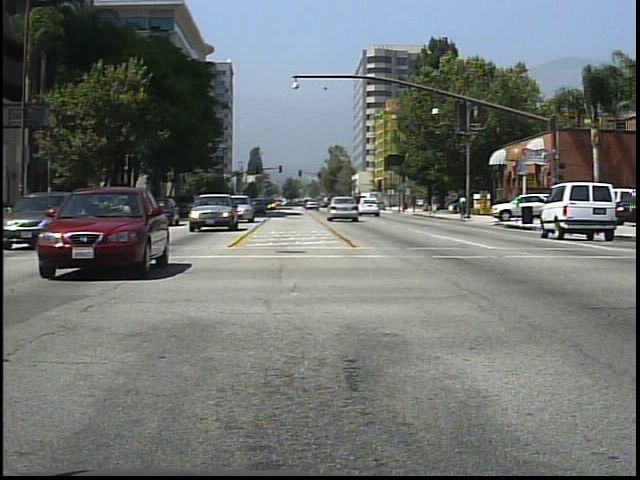person: (455, 189, 470, 221), (430, 191, 442, 216)
